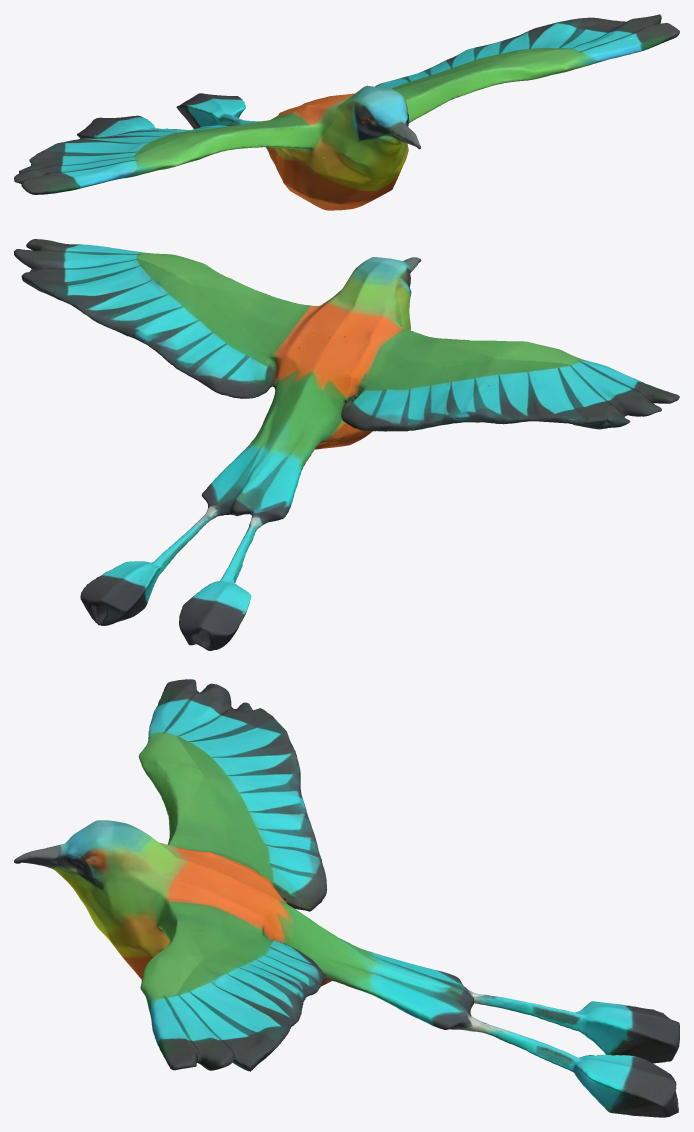
File: bird.glb
3 views of the same model, one above another, from view 1: azimuth 30°, elevation 25°; view 2: azimuth 150°, elevation 25°; view 3: azimuth 270°, elevation 25° (orthographic). The views are drawn at different scales.
Size of the model in its own units: 2 by 0.6199 by 1.45.
Materials: 1 (1 with a texture image).
